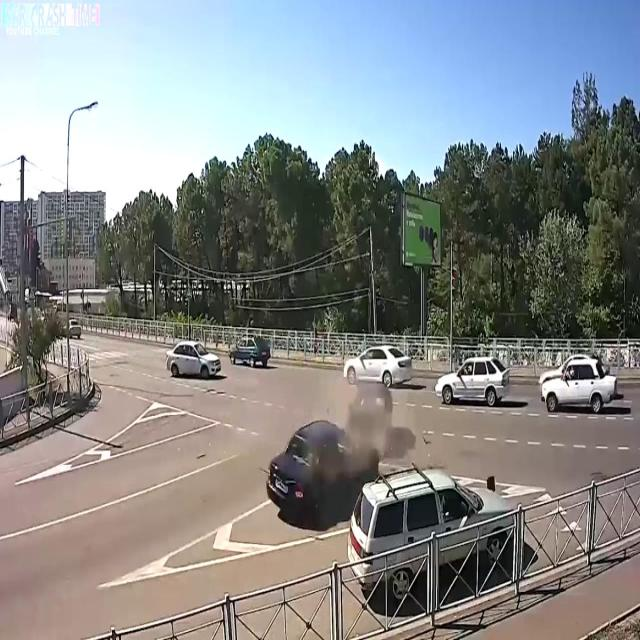accident: (264, 377, 396, 532)
non_accident: (433, 349, 623, 423), (163, 330, 275, 383)
